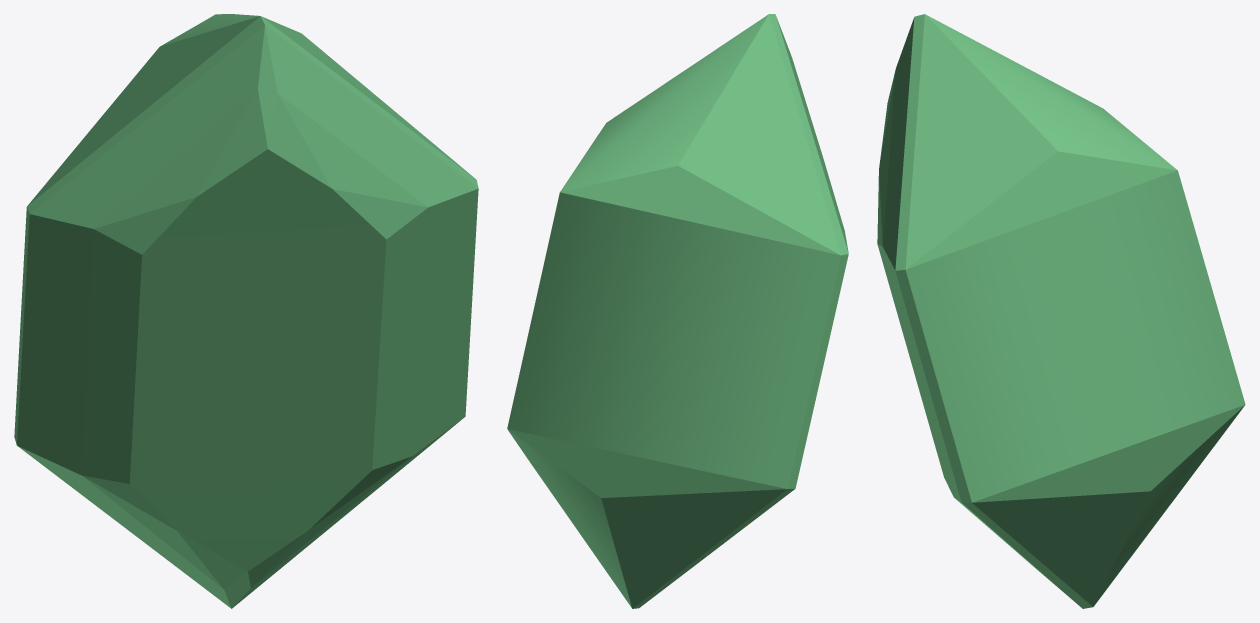
Rendered from BL2_8shapes_Hex_Classic_Stone.001 3.glb.
3 renders of one model, left to right at view 1: azimuth 30°, elevation 25°; view 2: azimuth 150°, elevation 25°; view 3: azimuth 270°, elevation 25°, orthographic. The views are drawn at different scales.
Parts seen in each view (by area): view 1: BL2_8shapes_Hex_Classic_Stone.001; view 2: BL2_8shapes_Hex_Classic_Stone.001; view 3: BL2_8shapes_Hex_Classic_Stone.001.
Boxes of the visible parts, box(x1,y1,x2,y2) form: BL2_8shapes_Hex_Classic_Stone.001: box(14, 14, 478, 608); BL2_8shapes_Hex_Classic_Stone.001: box(507, 14, 848, 608); BL2_8shapes_Hex_Classic_Stone.001: box(877, 14, 1245, 608).
Size of the model in its own units: 0.3633 by 0.5951 by 0.3495.
